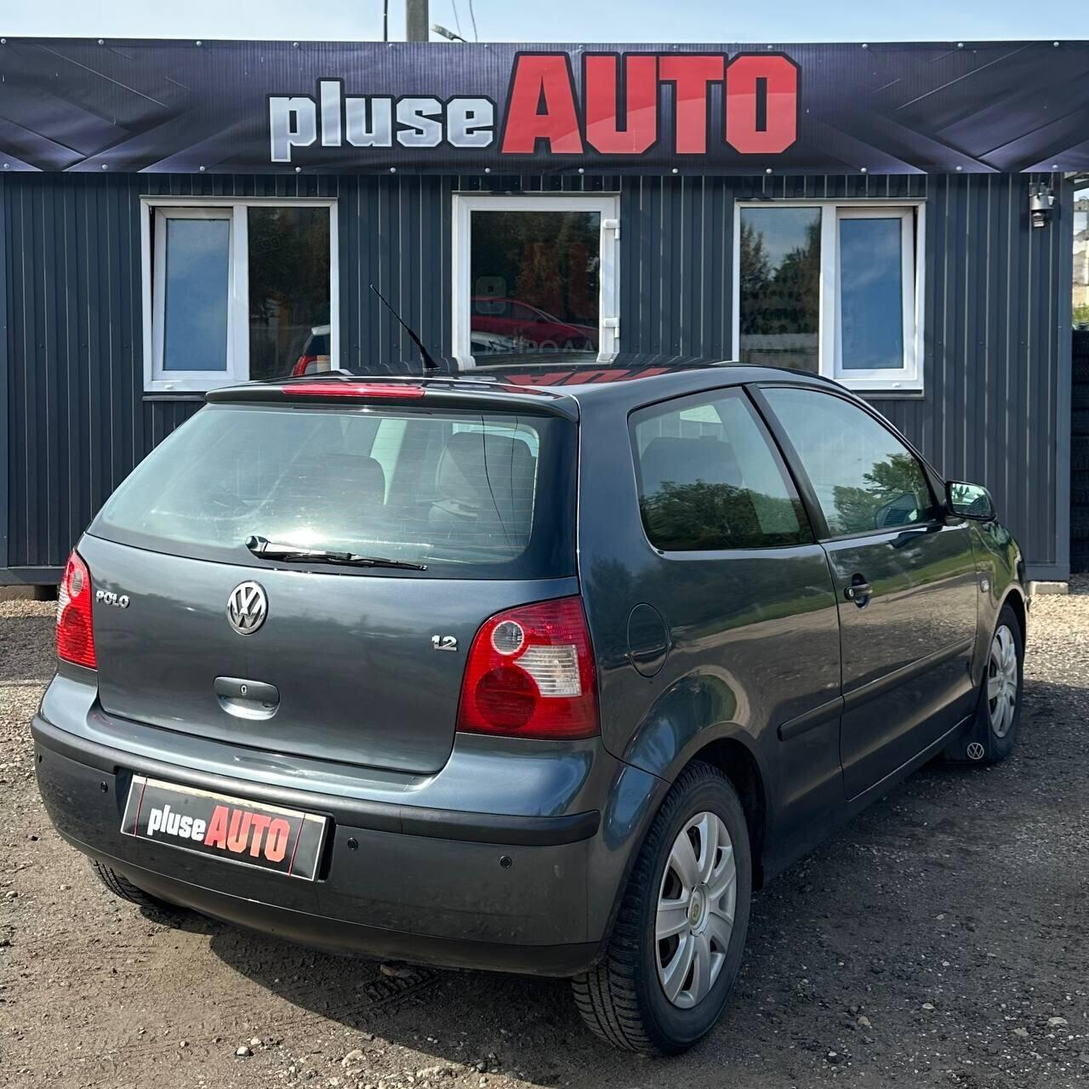Polo_2001-2005: (43, 362, 1045, 1053)
